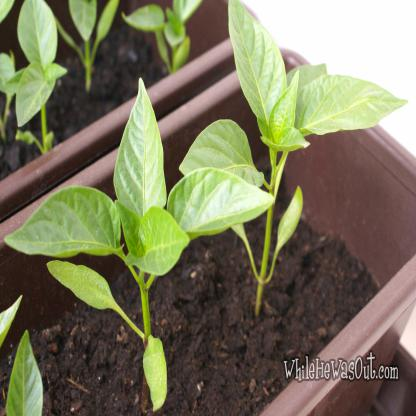Bell_pepper leaf: (111, 75, 170, 223), (5, 186, 121, 260), (226, 2, 290, 126), (167, 166, 276, 237), (178, 117, 268, 196), (302, 76, 411, 136), (131, 208, 189, 278)
